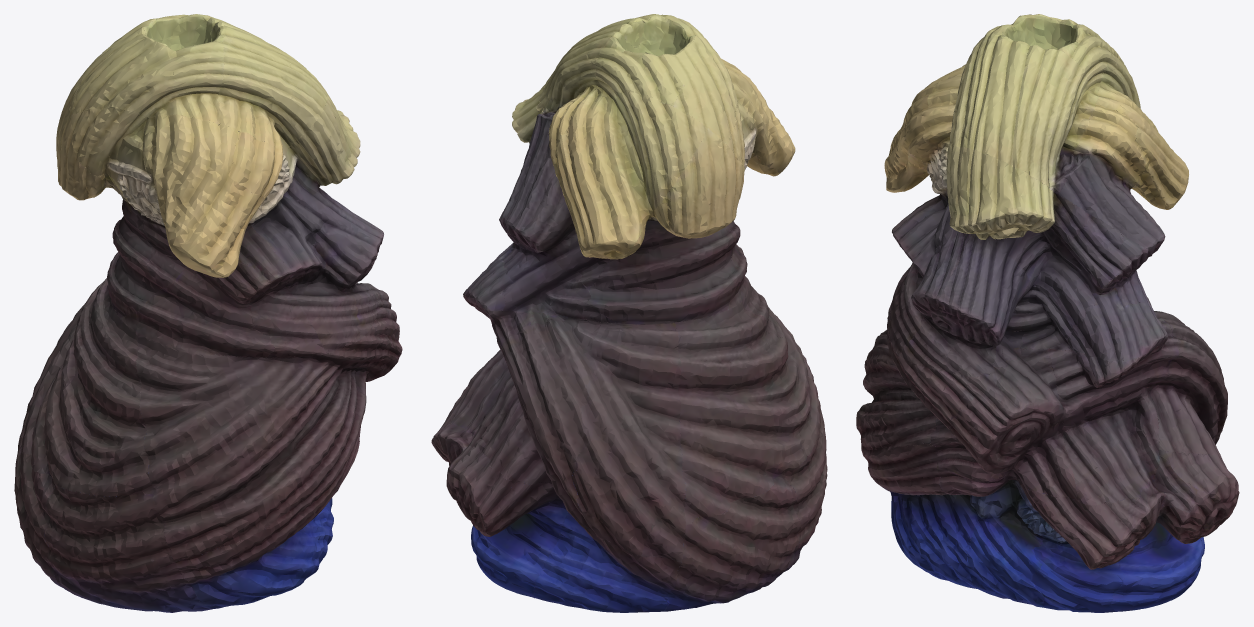
File: 05_6_js_blob_candle3-opt-v25.glb
3 renders of one model, left to right at view 1: azimuth 30°, elevation 25°; view 2: azimuth 150°, elevation 25°; view 3: azimuth 270°, elevation 25°, orthographic. The views are drawn at different scales.
Parts seen in each view (by area): view 1: tripo_node_f938f1ff-0c91-4e9d-ac05-28c1e2686026; view 2: tripo_node_f938f1ff-0c91-4e9d-ac05-28c1e2686026; view 3: tripo_node_f938f1ff-0c91-4e9d-ac05-28c1e2686026.
Part boxes in pixels (left/top/right/bottom): tripo_node_f938f1ff-0c91-4e9d-ac05-28c1e2686026: left=14, top=14, right=402, bottom=612; tripo_node_f938f1ff-0c91-4e9d-ac05-28c1e2686026: left=431, top=14, right=827, bottom=612; tripo_node_f938f1ff-0c91-4e9d-ac05-28c1e2686026: left=856, top=14, right=1239, bottom=612.
Size of the model in its own units: 0.1313 by 0.2 by 0.1328.
Materials: 1 (1 with a texture image).
